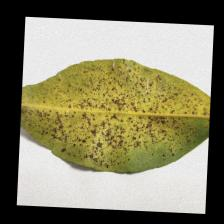canker: (60, 84, 173, 147)
